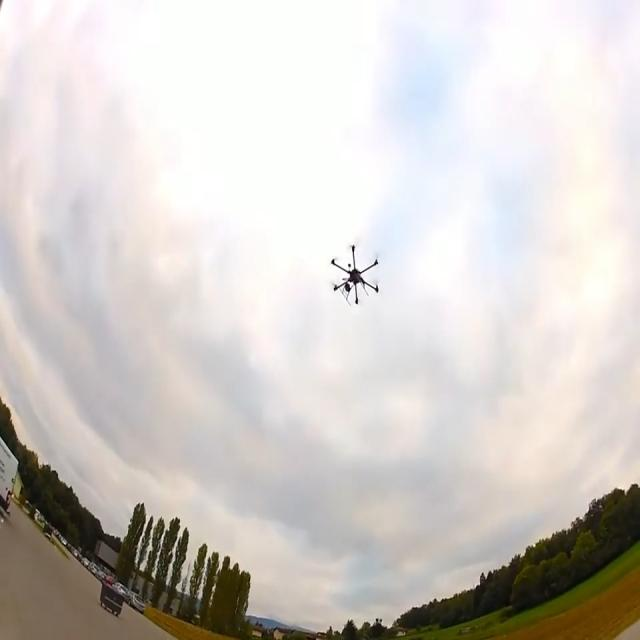drone: (330, 243, 379, 306)
